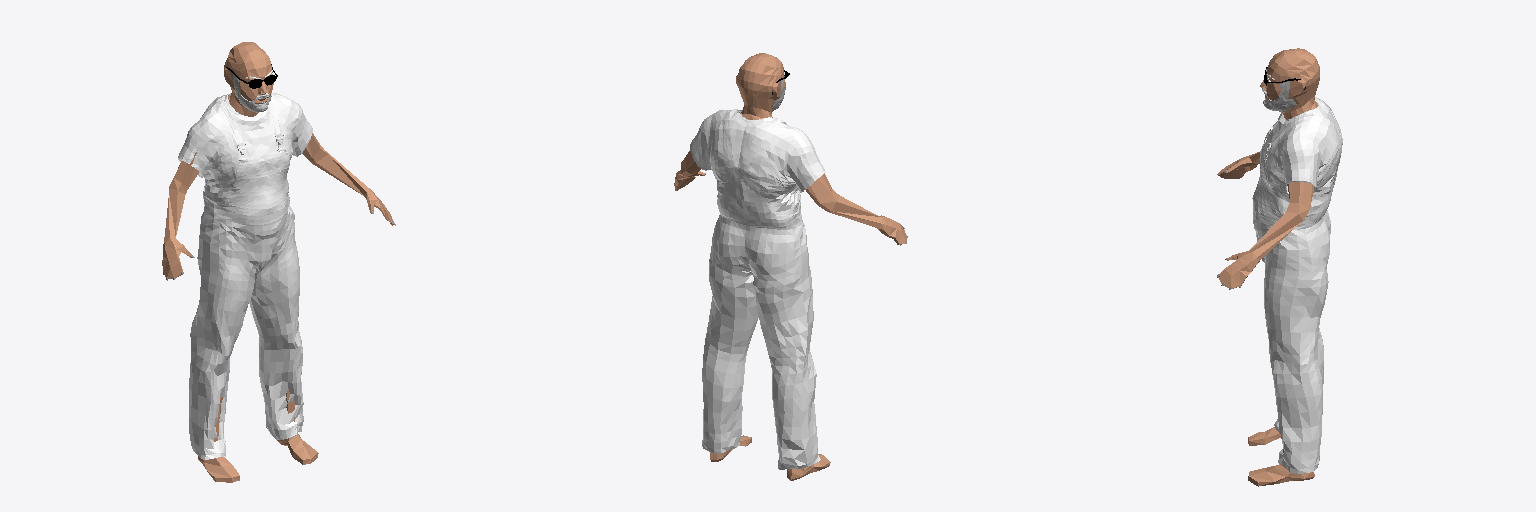
File: onefang_741.obj
3 views of the same model, side by side, from view 1: azimuth 30°, elevation 25°; view 2: azimuth 150°, elevation 25°; view 3: azimuth 270°, elevation 25° (orthographic).
Parts seen in each view (by area): view 1: worksuit.obj, proxy741.obj; view 2: worksuit.obj, proxy741.obj; view 3: worksuit.obj, proxy741.obj.
Part boxes in pixels (bbox=[...]): worksuit.obj: bbox=[178, 93, 312, 459]; proxy741.obj: bbox=[162, 42, 394, 482]; worksuit.obj: bbox=[690, 109, 824, 469]; proxy741.obj: bbox=[674, 53, 906, 480]; worksuit.obj: bbox=[1252, 97, 1342, 473]; proxy741.obj: bbox=[1218, 48, 1319, 486].
Size of the model in its own units: 1.03 by 1.78 by 0.4965.